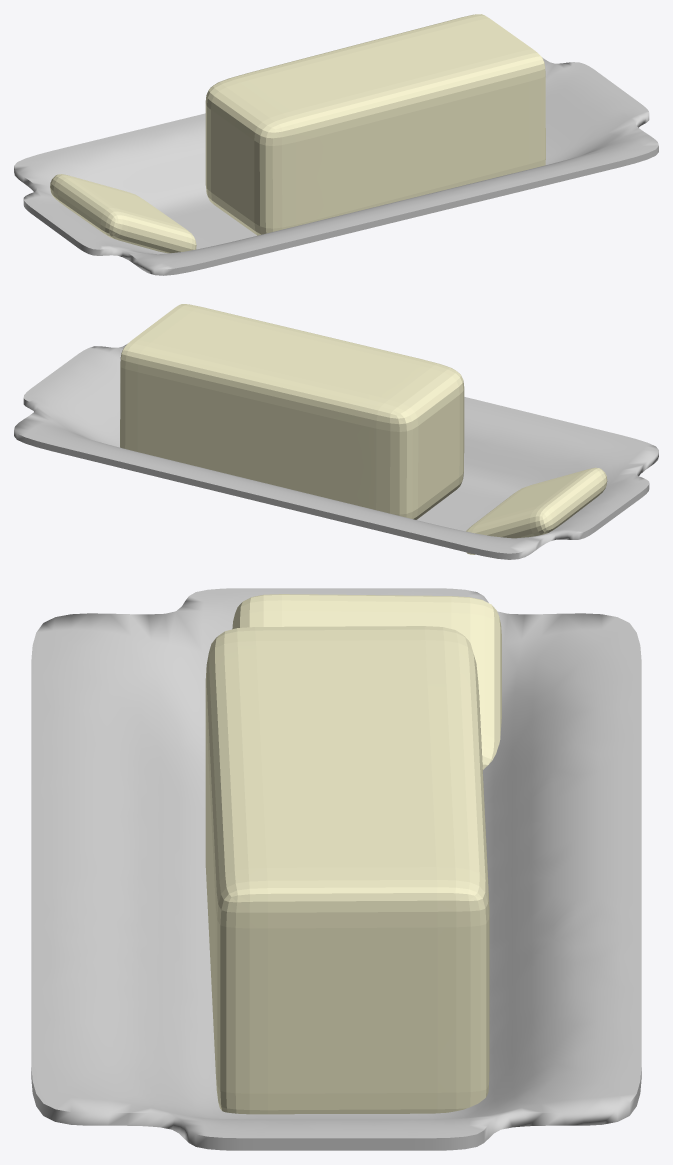
Rendered from mantequilla.glb.
3 views of the same model, one above another, from view 1: azimuth 30°, elevation 25°; view 2: azimuth 150°, elevation 25°; view 3: azimuth 270°, elevation 25° (orthographic). The views are drawn at different scales.
Visible parts, largest first — view 1: mantequilla; view 2: mantequilla; view 3: mantequilla.
Boxes of the visible parts, box(x1,y1,x2,y2) form: mantequilla: box(14, 14, 658, 275); mantequilla: box(14, 304, 658, 559); mantequilla: box(31, 588, 641, 1150).
Bounding box in the file's own units: 16 × 3.4 × 7.5.
